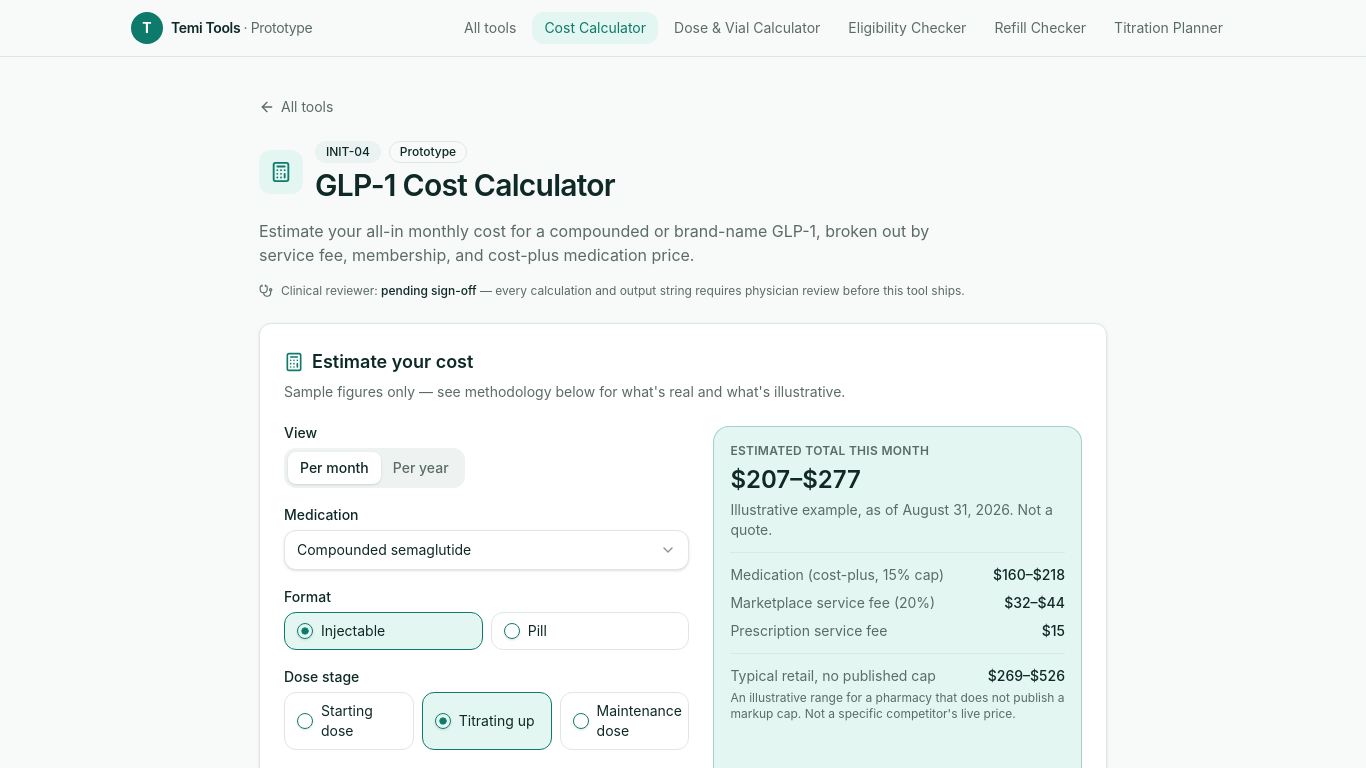
Test case: GLP-1 Cost Calculator › switches to a yearly total and drops the monthly prescription-status toggle
Expected: the text "Estimated total this month" is shown, [730,443,929,458]
Click the tab "Per year": [421, 468] box [381,452,461,484]
(page scrolled)
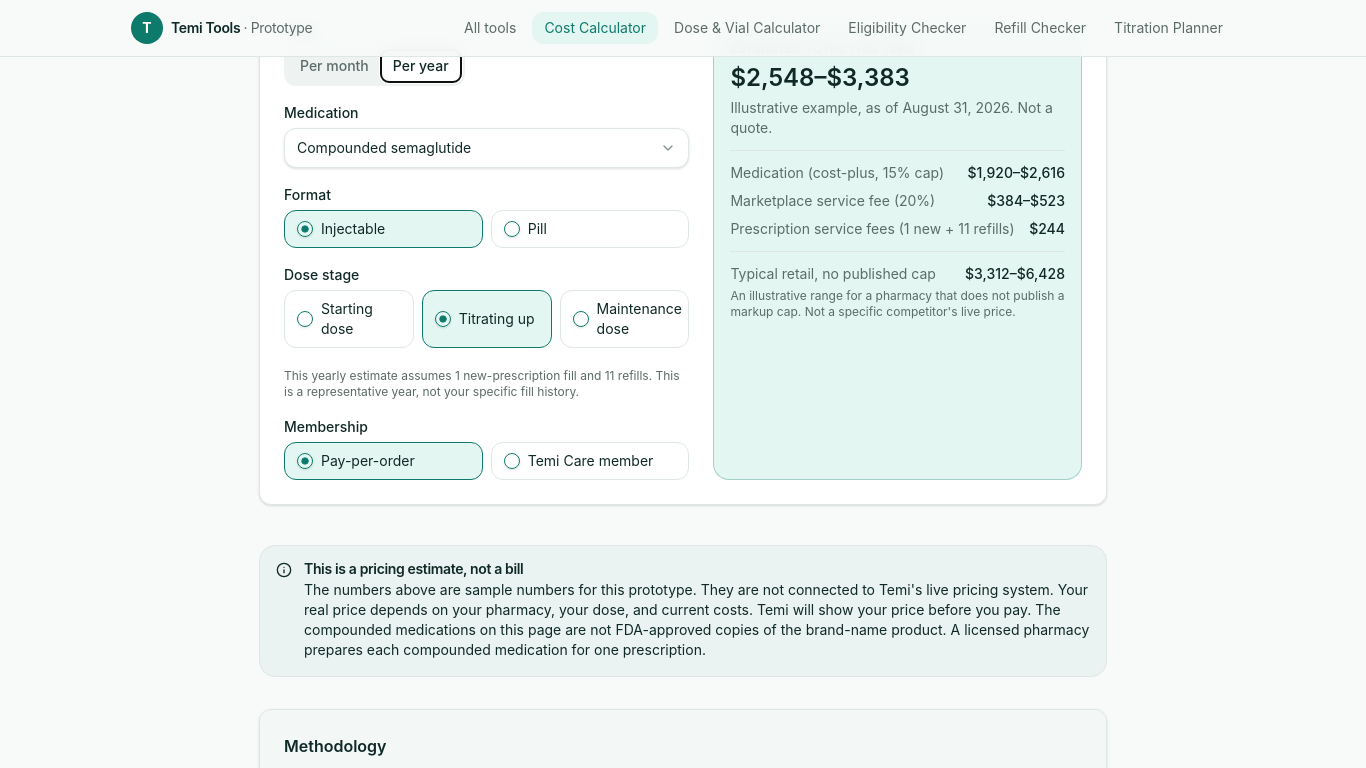
Expected: the text "1 new-prescription fill and 11 refills" is shown, [284,368,680,399]
